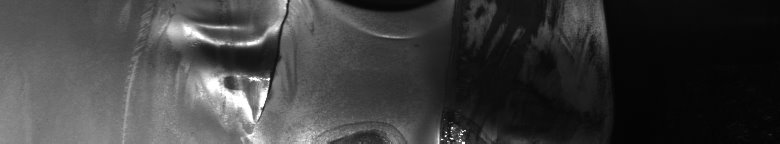ke: (183, 0, 419, 144)
